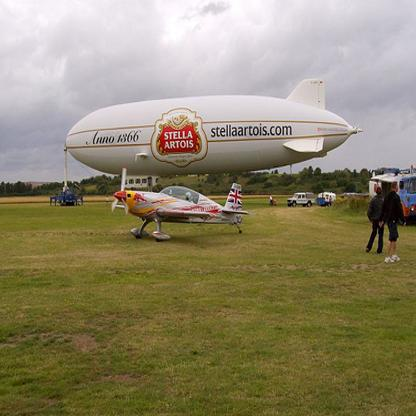Airship: (58, 78, 367, 177)
